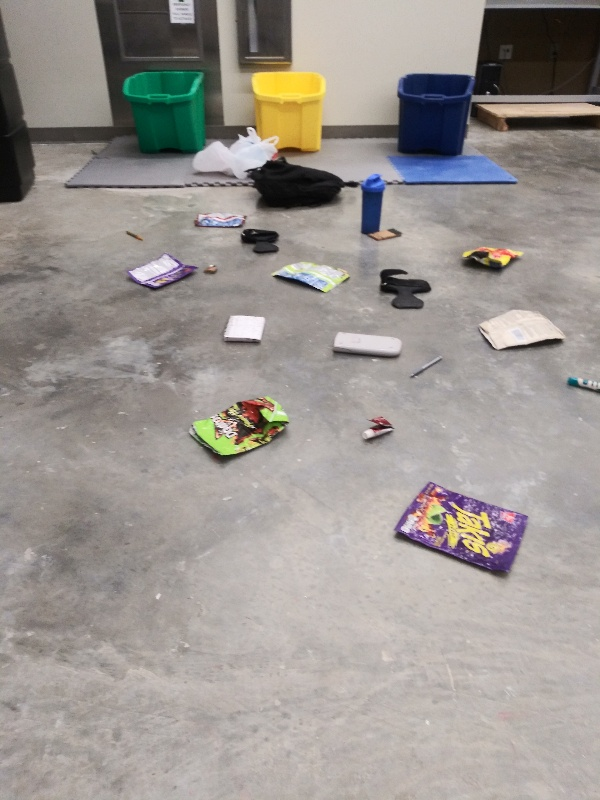bag: (388, 478, 531, 585), (184, 394, 294, 463), (476, 303, 569, 354), (265, 255, 355, 295), (122, 249, 201, 294), (455, 240, 527, 273), (185, 209, 251, 233)
